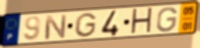4: (100, 9, 121, 38)
9: (23, 16, 43, 42)
G: (73, 12, 98, 38), (155, 6, 179, 33)
H: (129, 7, 154, 37)
N: (44, 13, 68, 41)
